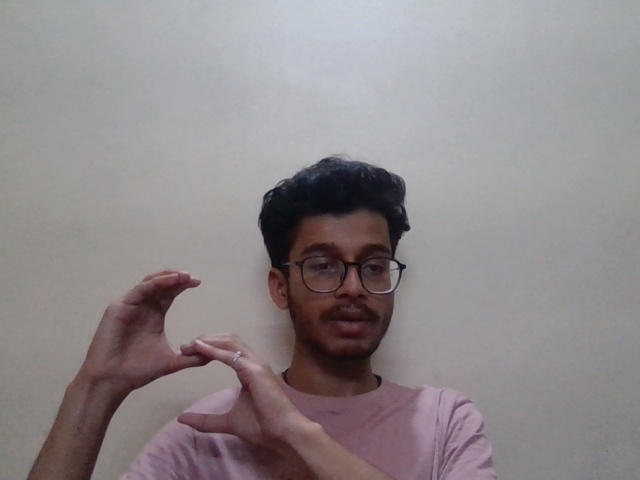S: (70, 265, 322, 450)
